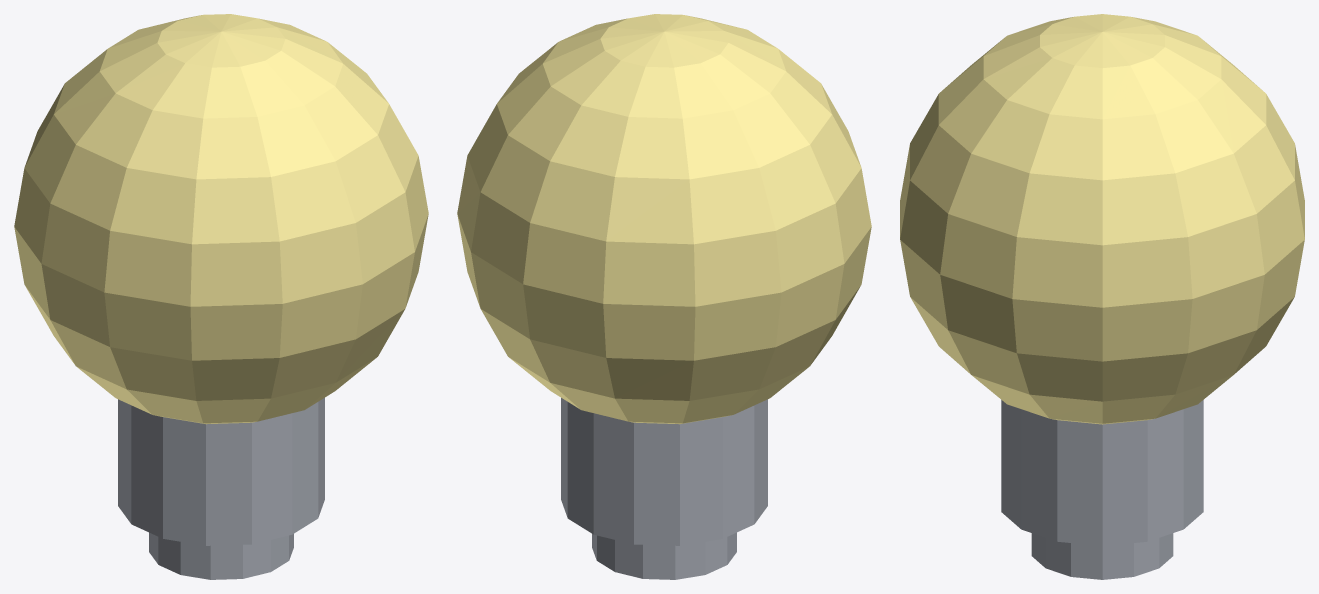
Rendered from Item_LightsOn.obj.
The picture shows the model from 3 angles, left to right: view 1: azimuth 30°, elevation 25°; view 2: azimuth 150°, elevation 25°; view 3: azimuth 270°, elevation 25°; orthographic projection.
Parts seen in each view (by area): view 1: Item_LightsOn; view 2: Item_LightsOn; view 3: Item_LightsOn.
Part boxes in pixels (<box>): Item_LightsOn: <box>14,14,428,579</box>; Item_LightsOn: <box>457,14,871,579</box>; Item_LightsOn: <box>900,14,1304,579</box>.
Bounding box in the file's own units: 0.4 × 0.55 × 0.39.
